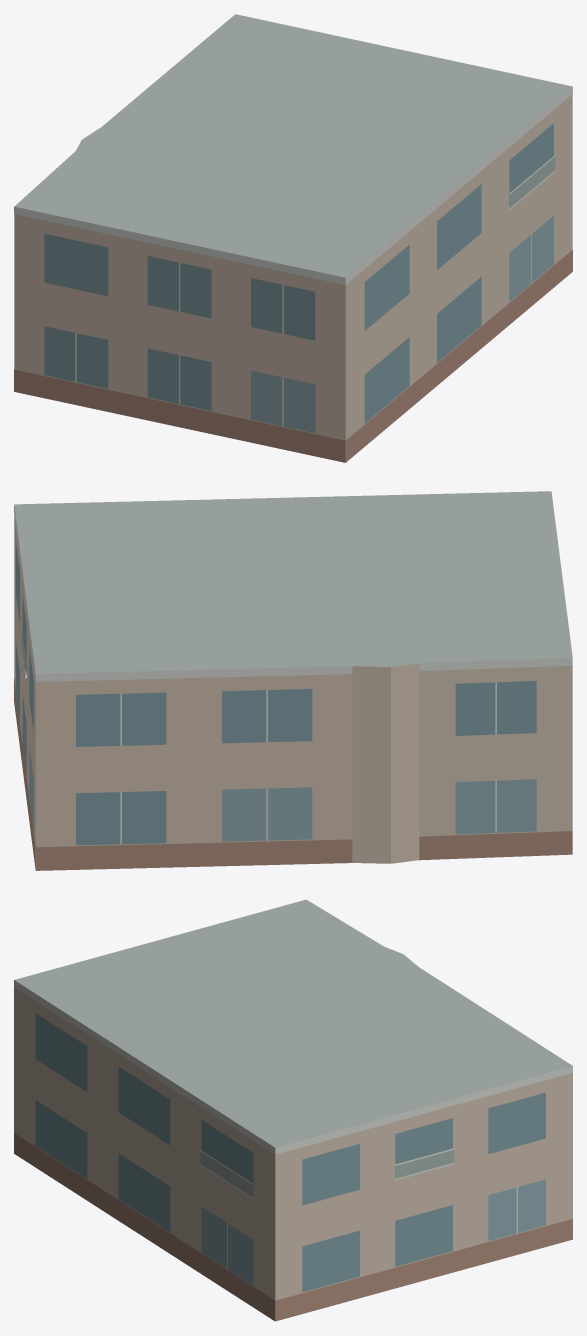
File: survey-upis-32998345.glb
The picture shows the model from 3 angles, top to bottom: view 1: azimuth 30°, elevation 25°; view 2: azimuth 150°, elevation 25°; view 3: azimuth 270°, elevation 25°; orthographic projection. The views are drawn at different scales.
Parts seen in each view (by area): view 1: survey-upis-32998345.tmp; view 2: survey-upis-32998345.tmp; view 3: survey-upis-32998345.tmp.
Part boxes in pixels (left/top/right/bottom): survey-upis-32998345.tmp: left=14, top=14, right=572, bottom=462; survey-upis-32998345.tmp: left=14, top=491, right=572, bottom=870; survey-upis-32998345.tmp: left=14, top=899, right=572, bottom=1321.
Bounding box in the file's own units: 18.71 × 6.1 × 17.79.
